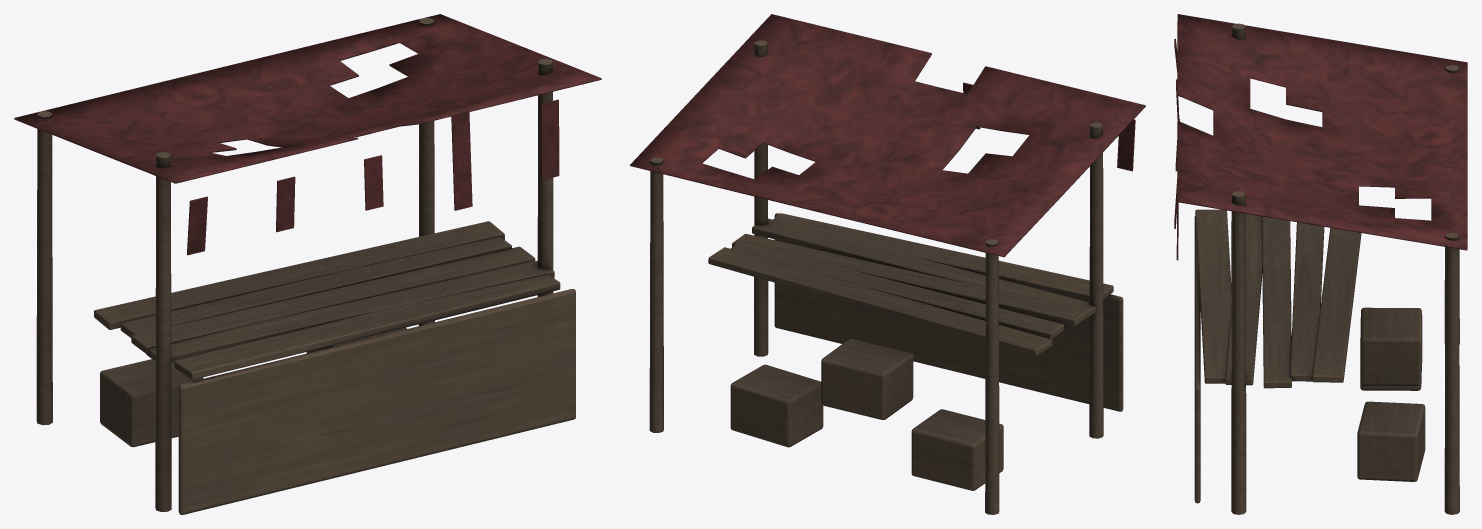
File: vespera_banca_rasgada.glb
The picture shows the model from 3 angles, left to right: view 1: azimuth 30°, elevation 25°; view 2: azimuth 150°, elevation 25°; view 3: azimuth 270°, elevation 25°; orthographic projection. The views are drawn at different scales.
Visible parts, largest first — view 1: vespera_banca_rasgada_tronco; view 2: vespera_banca_rasgada_tronco; view 3: vespera_banca_rasgada_tronco.
Part boxes in pixels (x1=…): vespera_banca_rasgada_tronco: x1=14, y1=14, x2=601, y2=514; vespera_banca_rasgada_tronco: x1=630, y1=14, x2=1145, y2=514; vespera_banca_rasgada_tronco: x1=1174, y1=14, x2=1467, y2=514.
Size of the model in its own units: 2.9 by 2.32 by 1.92.
Materials: 1 (1 with a texture image).
